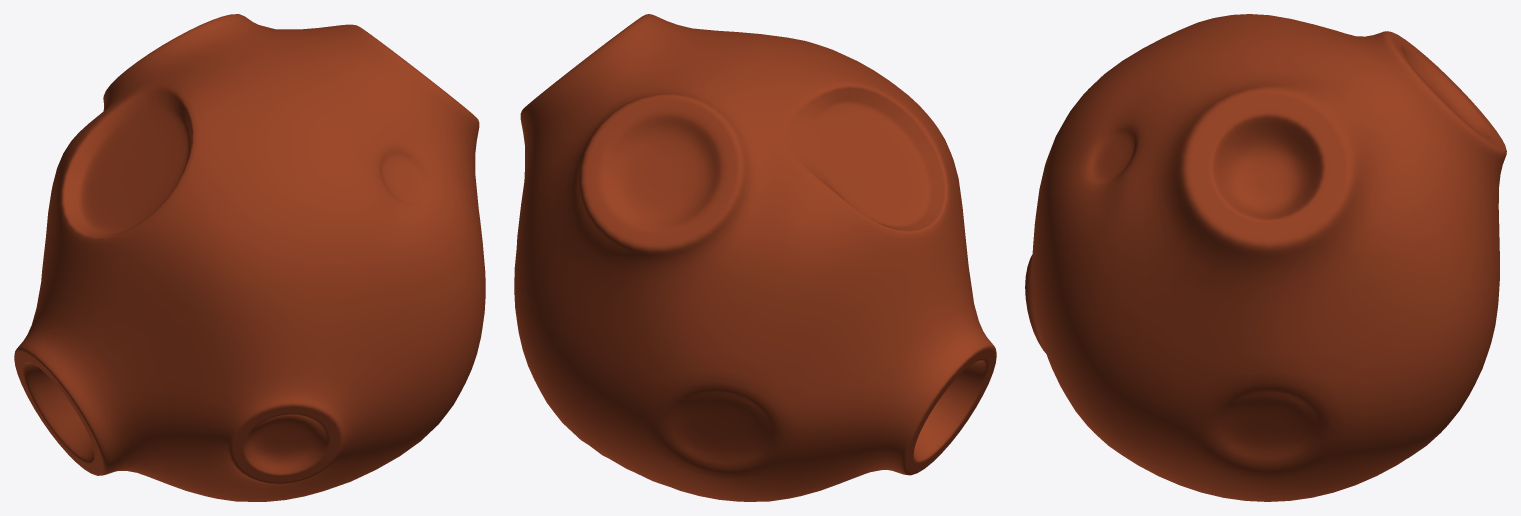
Rendered from Asteroid2.fbx.
The picture shows the model from 3 angles, left to right: view 1: azimuth 30°, elevation 25°; view 2: azimuth 150°, elevation 25°; view 3: azimuth 270°, elevation 25°; orthographic projection. The views are drawn at different scales.
Parts seen in each view (by area): view 1: pCube1; view 2: pCube1; view 3: pCube1.
Part boxes in pixels (box(x1,y1,x2,y2)): pCube1: box(14, 14, 485, 501); pCube1: box(514, 14, 996, 501); pCube1: box(1025, 14, 1506, 501).
Bounding box in the file's own units: 757 × 704 × 689.
